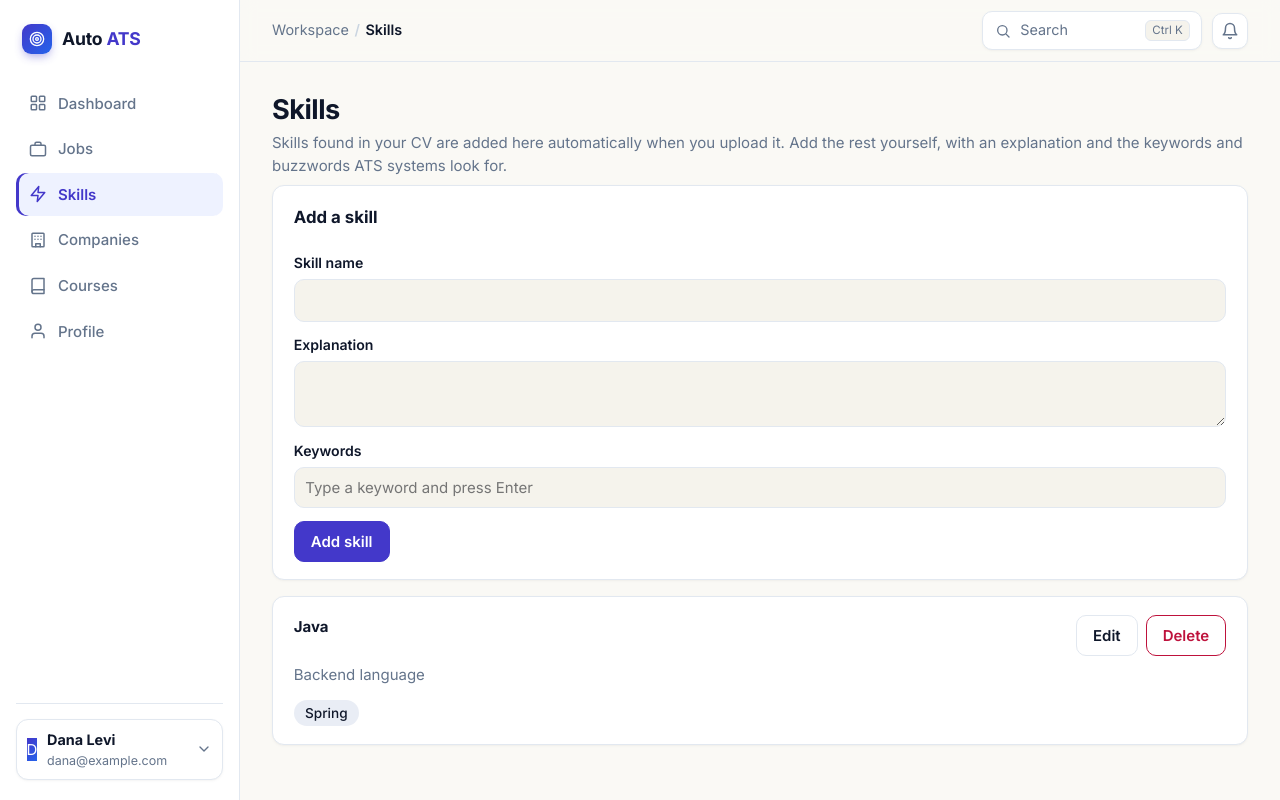
Test: SkillsPage › GivenSkill_WhenClickingEdit_ThenFormIsPrefilled
Click the button with aria-label "Edit Java". click: coordinates (1107, 636)
box: top-left (1076, 615), bottom-right (1138, 656)
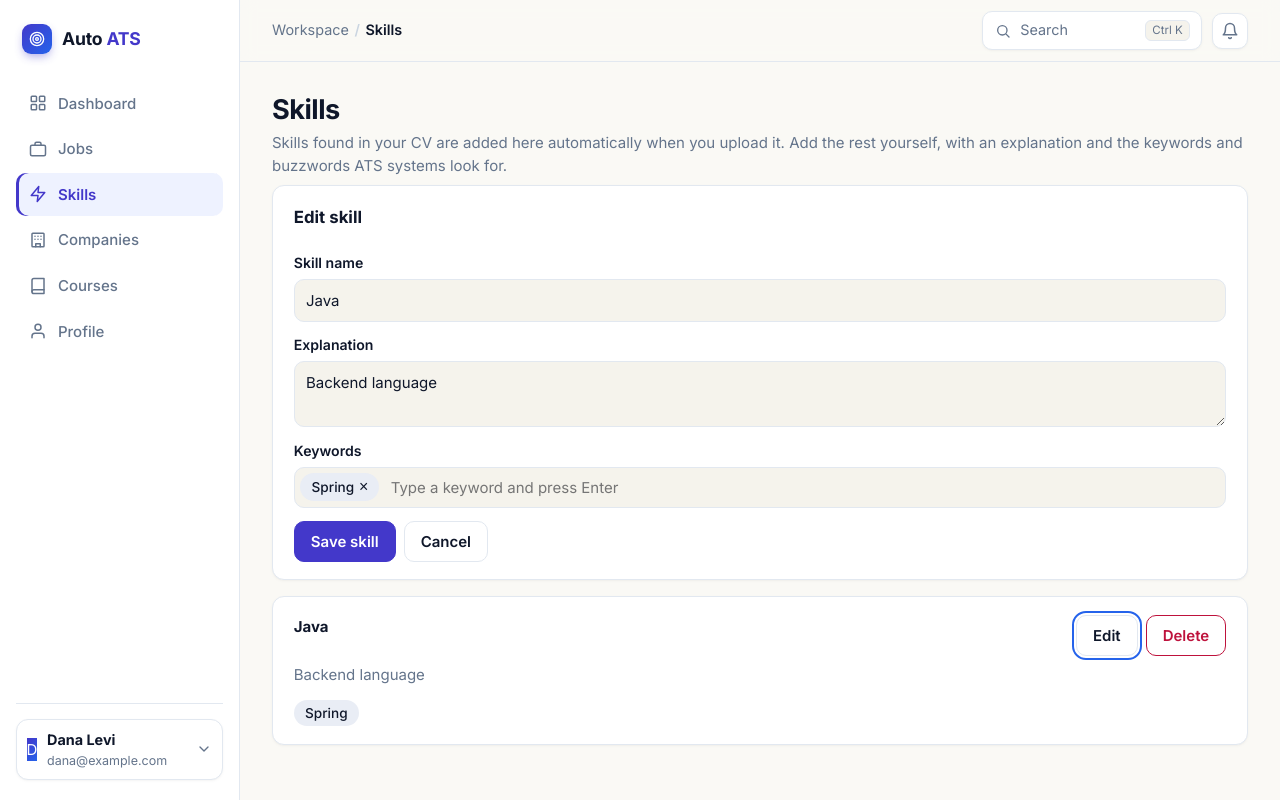
expect the heading "Edit skill" is shown: met, box top-left (294, 207), bottom-right (362, 227)
expect the field labelled "Skill name" holds "Java": met, box top-left (294, 279), bottom-right (1226, 322)
expect the text box labelled "Explanation" holds "Backend language": met, box top-left (294, 361), bottom-right (1226, 427)
